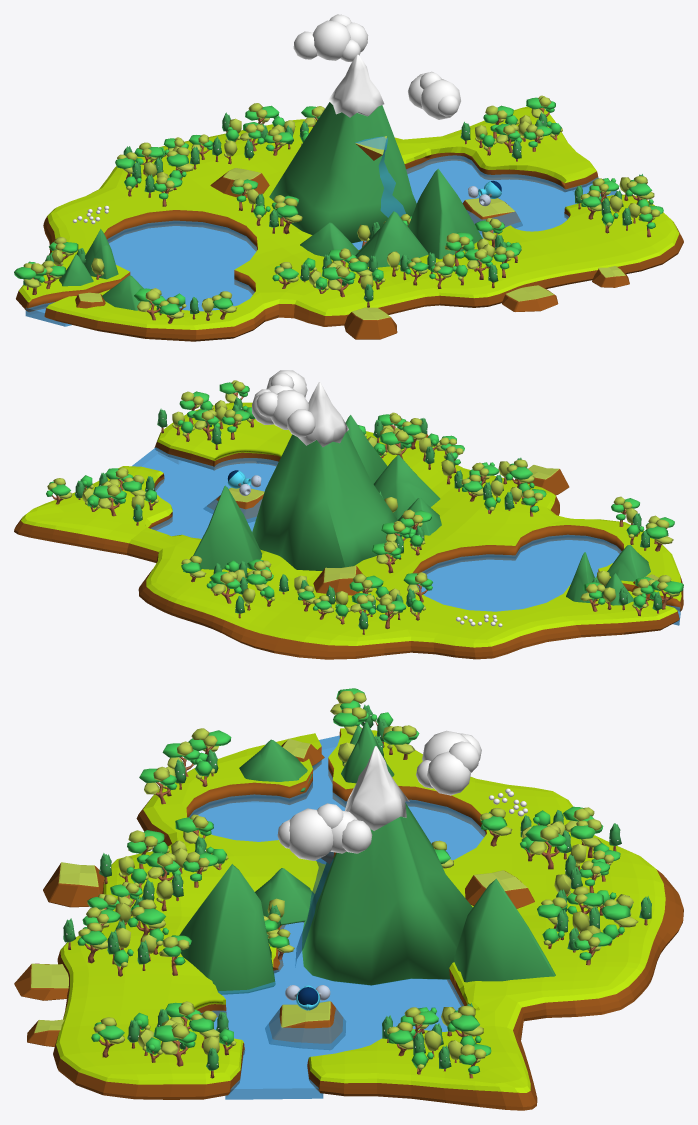
Rendered from miniworld.glb.
3 renders of one model, top to bottom at view 1: azimuth 30°, elevation 25°; view 2: azimuth 150°, elevation 25°; view 3: azimuth 270°, elevation 25°, orthographic. The views are drawn at different scales.
Visible parts, largest first — view 1: ground, waterbed, mt_main, mt_side, treesgroup02, treesgroup07, treesgroup04, treesgroup05, Clouds02, mt_main_tip, treesgroup01, treesgroup06 (+8 smaller); view 2: ground, waterbed, mt_main, mt_side, treesgroup07, treesgroup02, treesgroup05, treesgroup04, treesgroup06, Clouds02, treesgroup08, treesgroup01 (+5 smaller); view 3: ground, waterbed, mt_main, mt_side, treesgroup02, treesgroup07, treesgroup05, treesgroup04, Clouds01, Clouds02, treesgroup01, rock01 (+8 smaller).
Part boxes in pixels (left/top/right/bottom): ground: left=16, top=106, right=683, bottom=341; waterbed: left=25, top=155, right=622, bottom=326; mt_main: left=269, top=102, right=416, bottom=243; mt_side: left=59, top=168, right=482, bottom=310; treesgroup02: left=272, top=218, right=521, bottom=307; treesgroup07: left=115, top=103, right=324, bottom=206; treesgroup04: left=460, top=95, right=562, bottom=161; treesgroup05: left=574, top=174, right=663, bottom=237; Clouds02: left=293, top=14, right=368, bottom=62; mt_main_tip: left=328, top=54, right=384, bottom=117; treesgroup01: left=134, top=288, right=236, bottom=323; treesgroup06: left=14, top=237, right=104, bottom=294; ground: left=14, top=402, right=683, bottom=659; waterbed: left=132, top=447, right=680, bottom=625; mt_main: left=252, top=431, right=402, bottom=570; mt_side: left=193, top=415, right=650, bottom=605; treesgroup07: left=181, top=555, right=432, bottom=634; treesgroup02: left=358, top=412, right=546, bottom=516; treesgroup05: left=157, top=380, right=255, bottom=449; treesgroup04: left=46, top=467, right=158, bottom=525; treesgroup06: left=580, top=570, right=683, bottom=616; Clouds02: left=252, top=390, right=315, bottom=437; treesgroup08: left=372, top=509, right=432, bottom=573; treesgroup01: left=611, top=496, right=674, bottom=551; ground: left=53, top=728, right=683, bottom=1110; waterbed: left=189, top=735, right=485, bottom=1099; mt_main: left=302, top=803, right=472, bottom=985; mt_side: left=179, top=722, right=555, bottom=994; treesgroup02: left=63, top=814, right=228, bottom=976; treesgroup07: left=480, top=806, right=651, bottom=965; treesgroup05: left=91, top=1001, right=236, bottom=1078; treesgroup04: left=382, top=1003, right=491, bottom=1078; Clouds01: left=277, top=803, right=372, bottom=860; Clouds02: left=416, top=730, right=481, bottom=795; treesgroup01: left=139, top=728, right=231, bottom=804; rock01: left=265, top=1001, right=345, bottom=1049.
Bounding box in the file's own units: 100 × 29.21 × 75.73.
